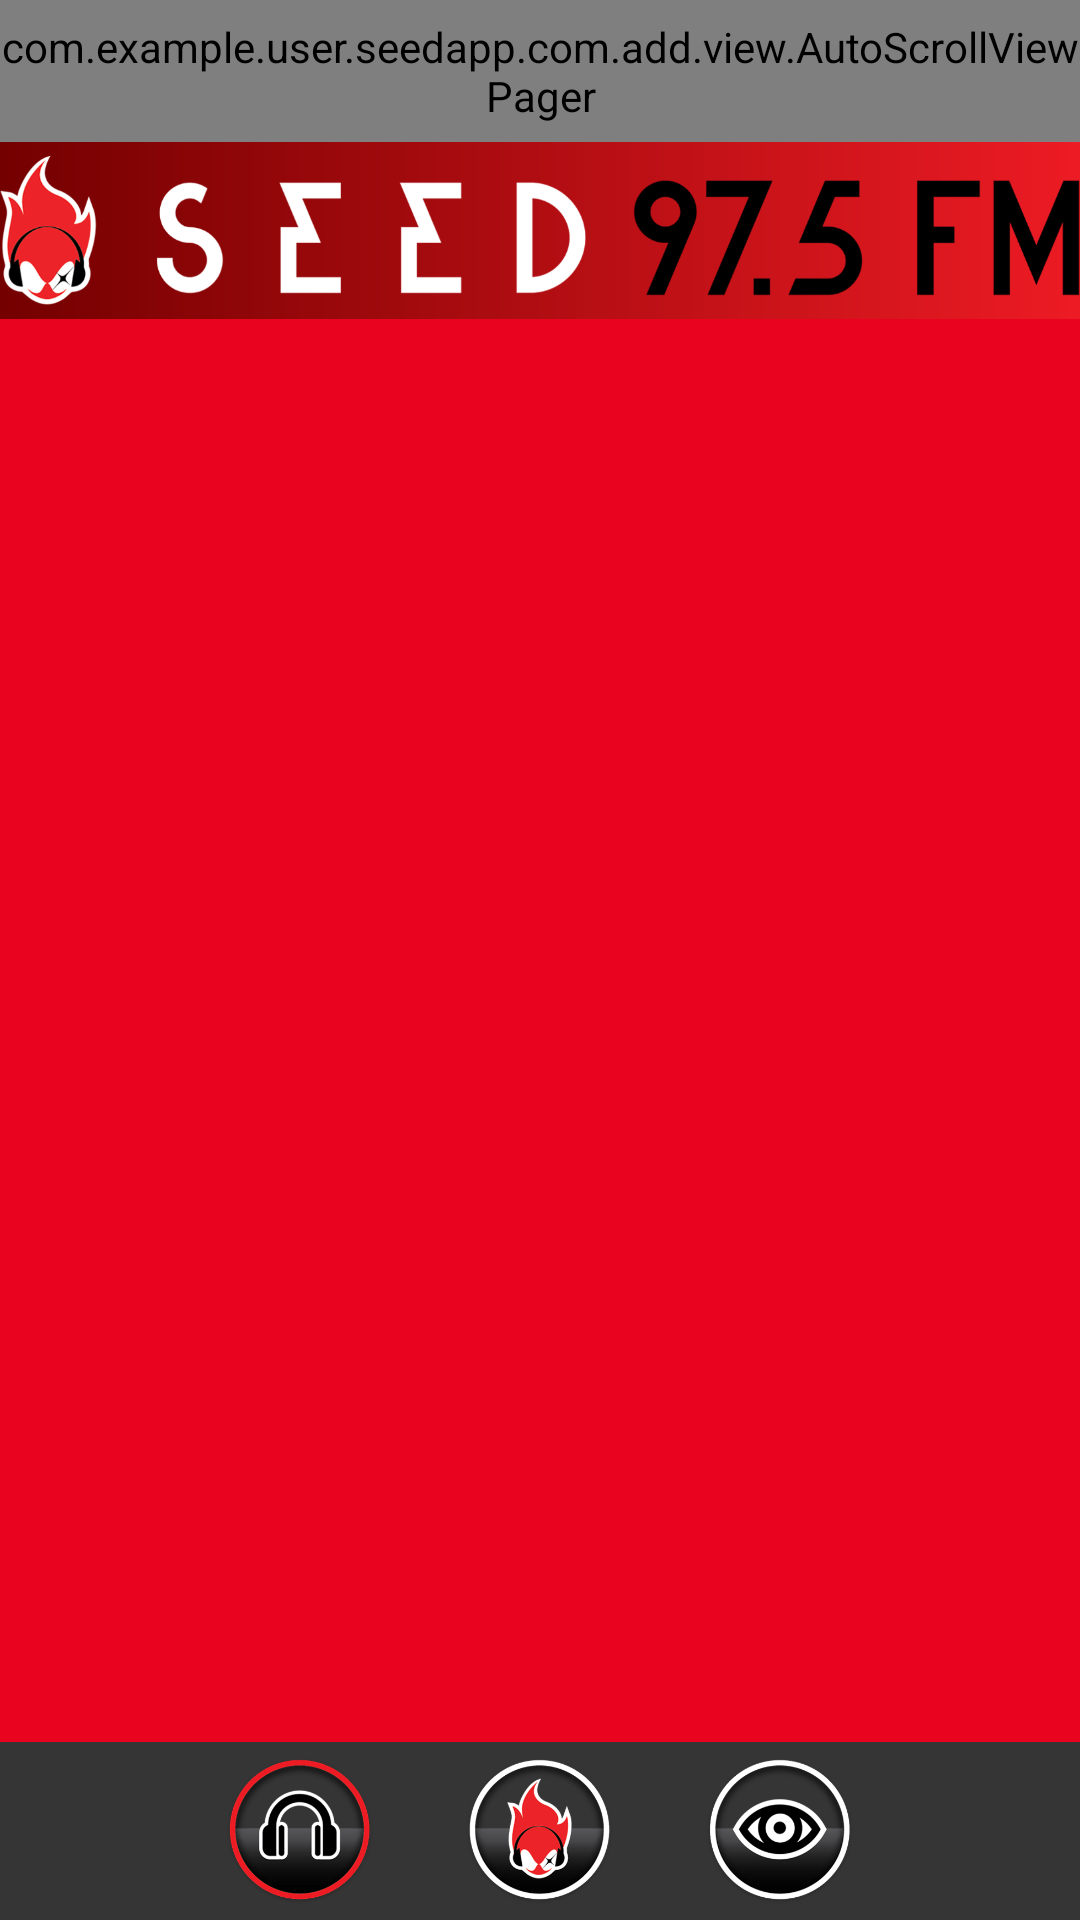

Named icons in this screenshot (1080px x 1920px) and their centers, (x,y):
eye: (780,1830)
headphone: (300,1829)
